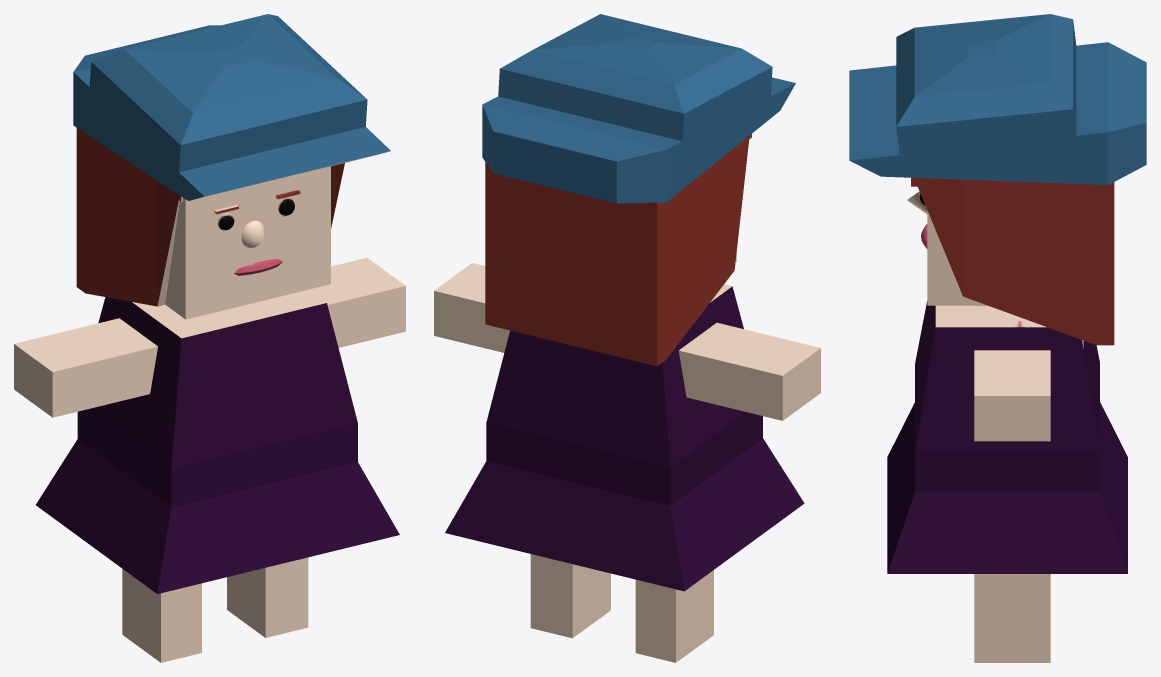
File: Manaeger.fbx
The picture shows the model from 3 angles, left to right: view 1: azimuth 30°, elevation 25°; view 2: azimuth 150°, elevation 25°; view 3: azimuth 270°, elevation 25°; orthographic projection.
Visible parts, largest first — view 1: Torus; view 2: Torus; view 3: Torus.
Boxes of the visible parts, box(x1,y1,x2,y2) form: Torus: box(14, 14, 405, 662); Torus: box(434, 14, 820, 662); Torus: box(849, 14, 1146, 662).
Size of the model in its own units: 406 by 644 by 300.
